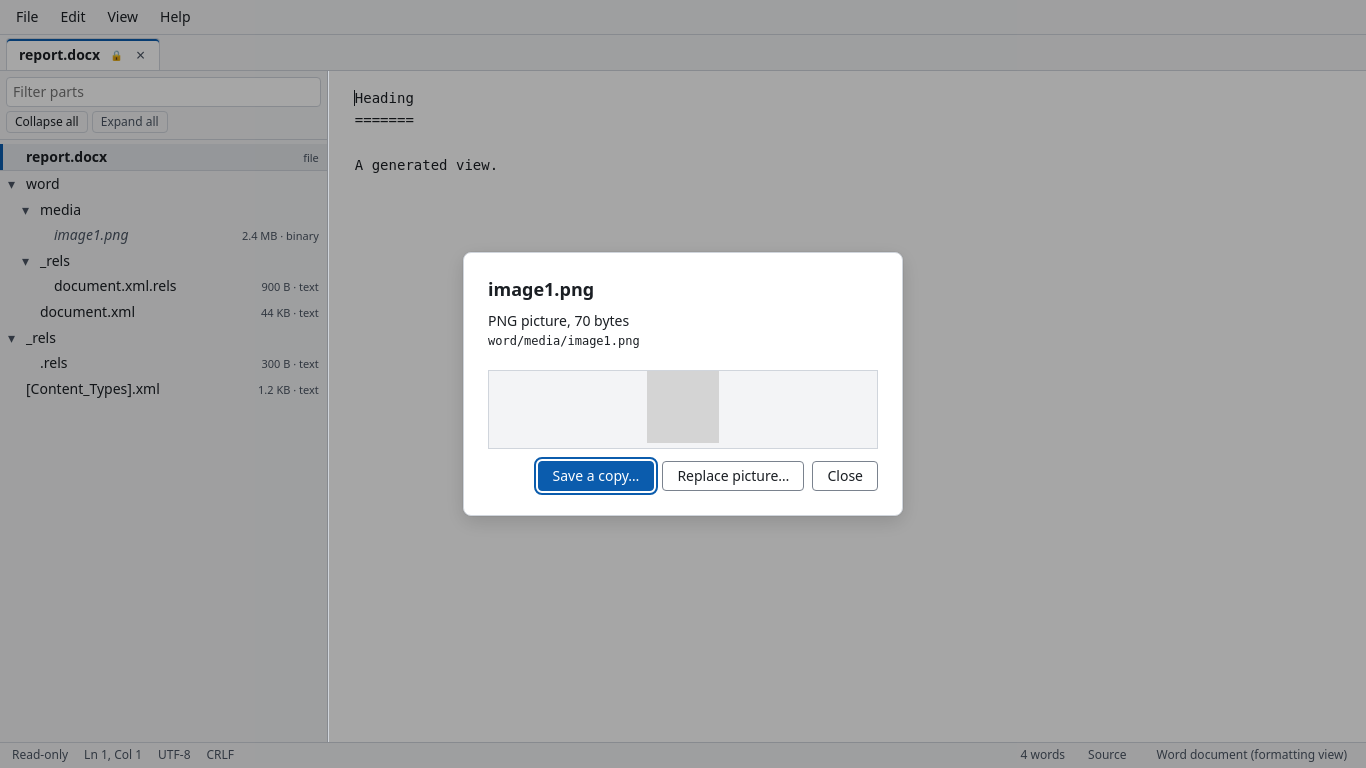
the binary part dialog › Save a copy › notifies when the write fails
Click the button "Save a copy…": (596, 476) [538,461,654,491]
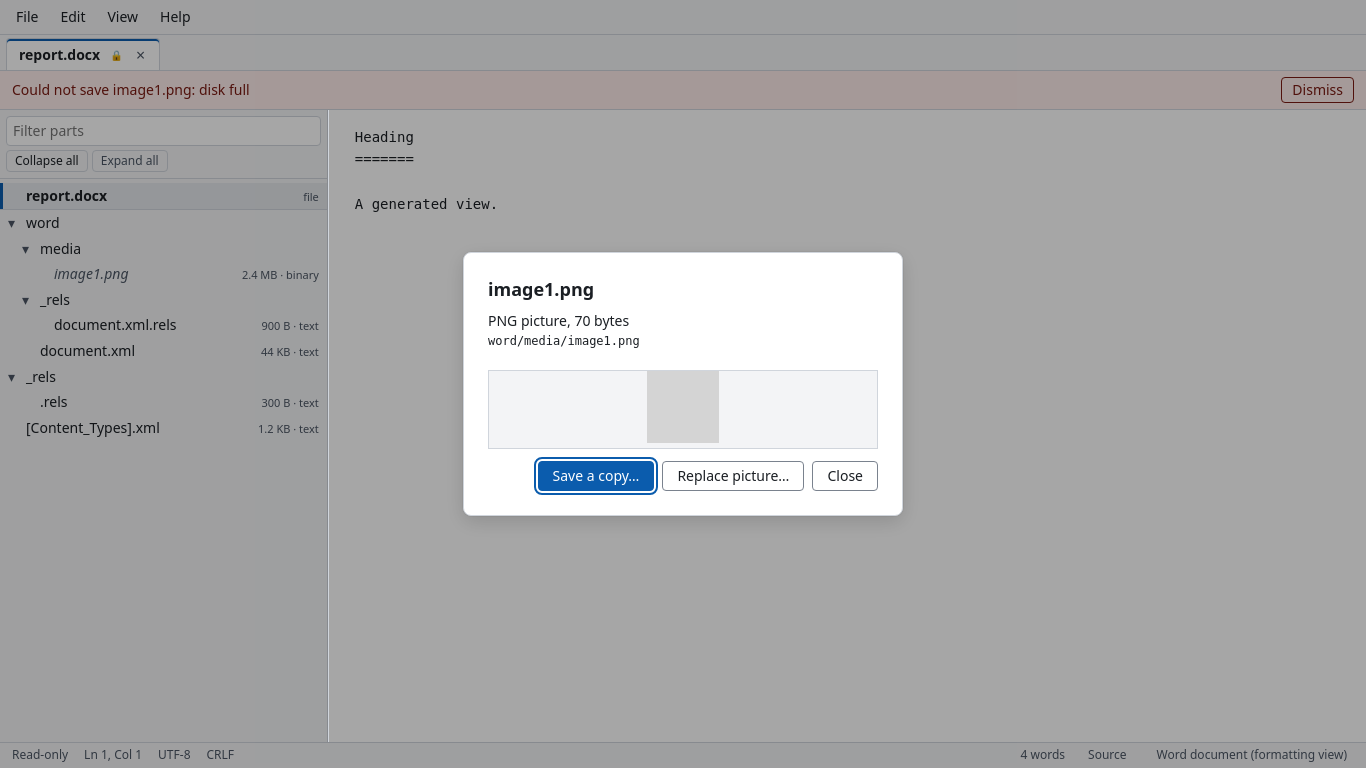
Result: the text "Could not save image1.png: disk full" is shown at [12,80,250,100]
